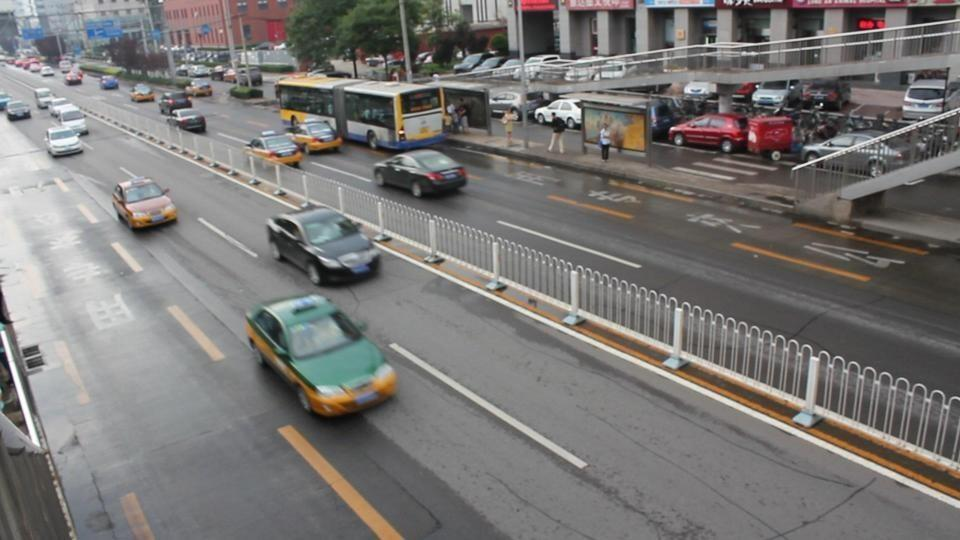car: (243, 292, 399, 420), (264, 204, 382, 286), (373, 148, 469, 198), (794, 131, 905, 174), (111, 175, 179, 230), (669, 113, 751, 152), (763, 78, 853, 111), (901, 78, 960, 121), (243, 131, 305, 168), (288, 117, 344, 155), (750, 78, 804, 112), (451, 54, 517, 77), (45, 124, 87, 158), (534, 99, 583, 128), (488, 91, 534, 121), (173, 110, 208, 133), (5, 101, 33, 121), (33, 87, 54, 109)
